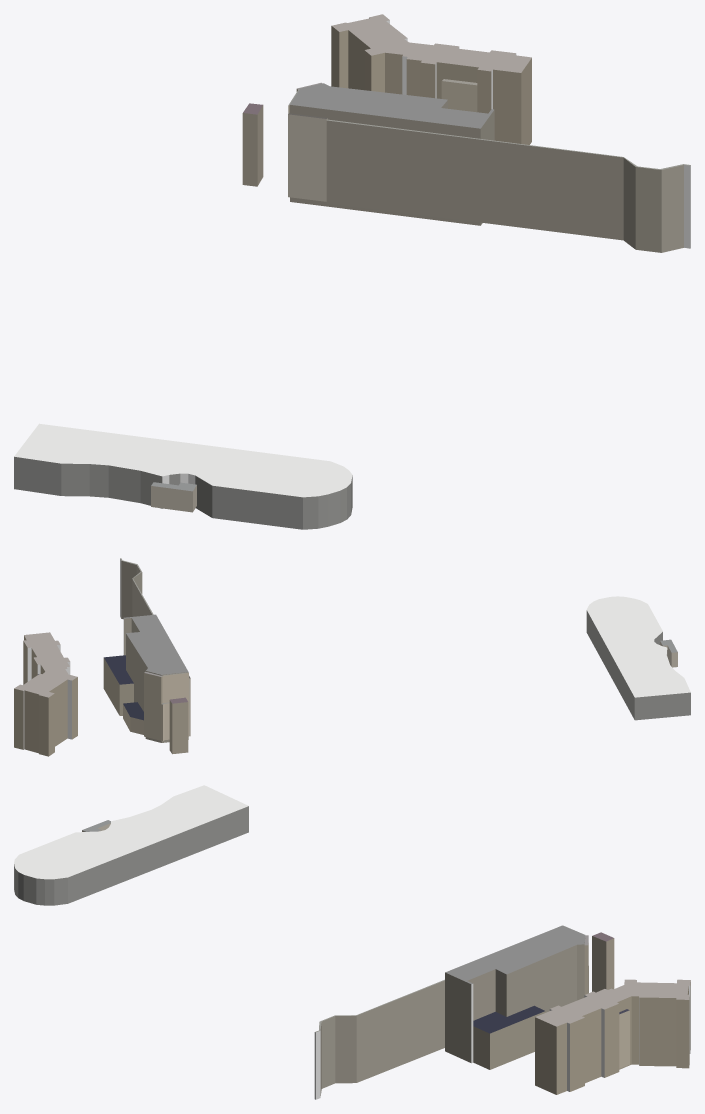
3 renders of one model, top to bottom at view 1: azimuth 30°, elevation 25°; view 2: azimuth 150°, elevation 25°; view 3: azimuth 270°, elevation 25°, orthographic. The views are drawn at different scales.
Parts seen in each view (by area): view 1: tuile; view 2: tuile; view 3: tuile.
Boxes of the visible parts, bbox=[...] form: tuile: bbox=[14, 14, 690, 529]; tuile: bbox=[14, 558, 690, 756]; tuile: bbox=[14, 785, 690, 1099].
Bounding box in the file's own units: 299 × 39.07 × 289.
